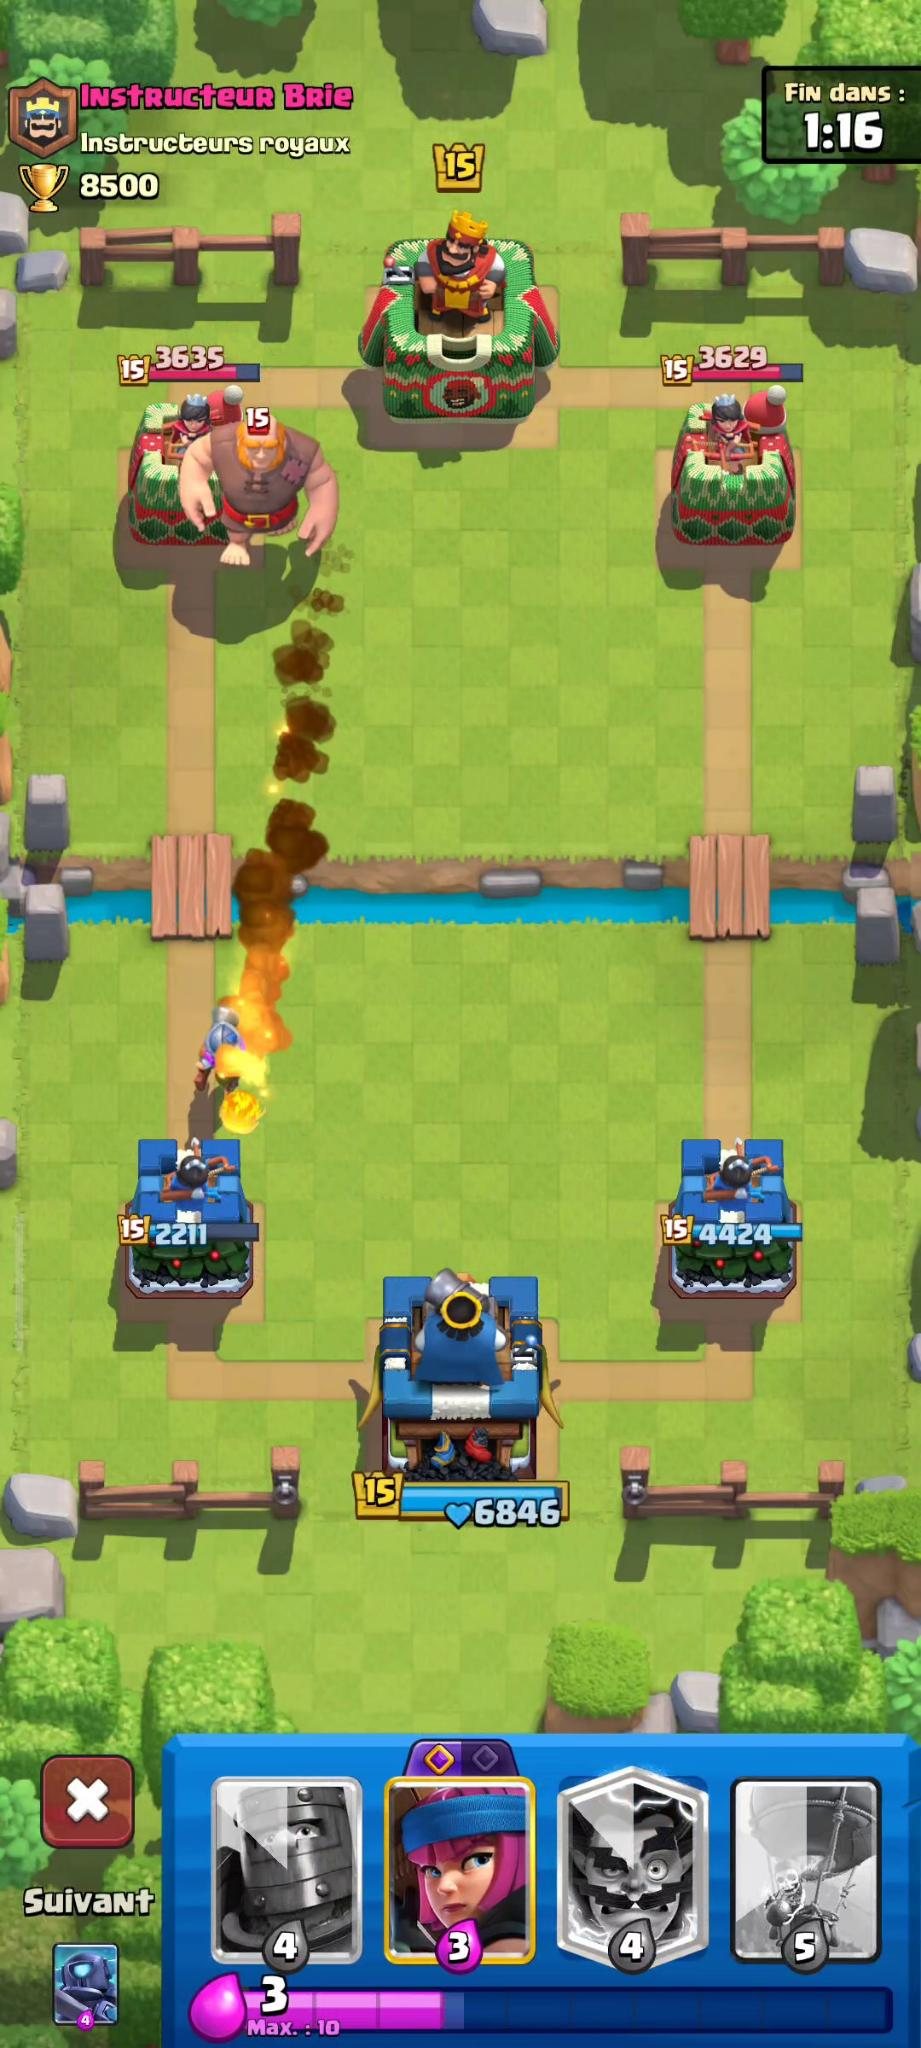geant: (179, 402, 349, 564)
